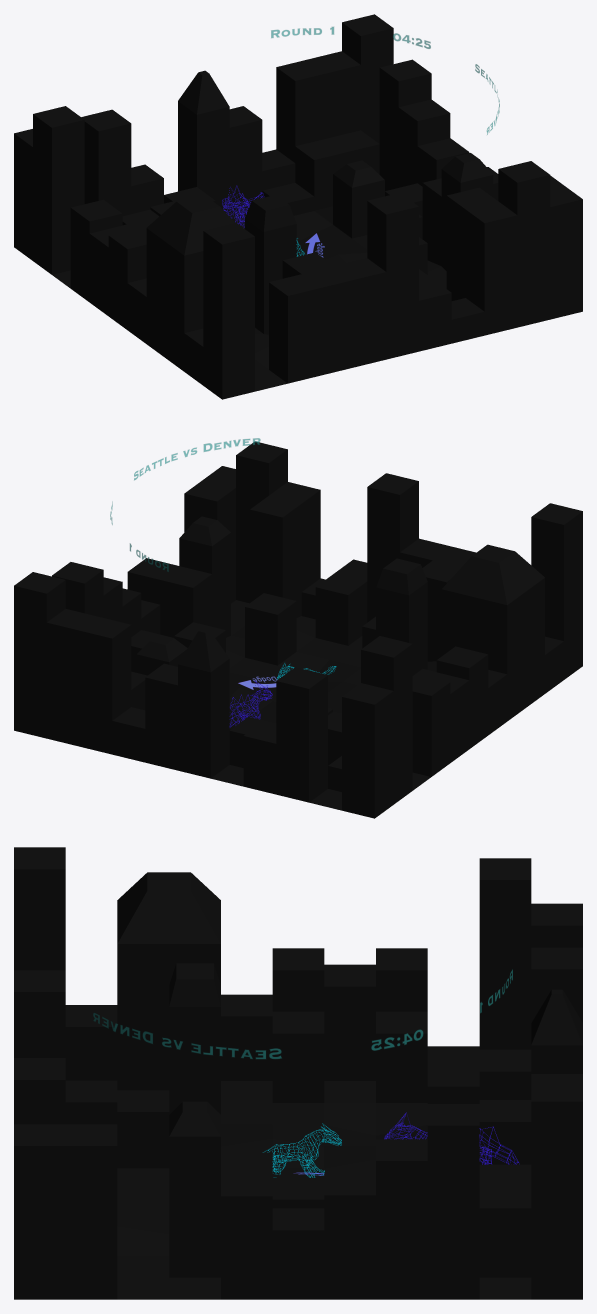
The model's file is cityhologram.gltf.
3 renders of one model, top to bottom at view 1: azimuth 30°, elevation 25°; view 2: azimuth 150°, elevation 25°; view 3: azimuth 270°, elevation 25°, orthographic. The views are drawn at different scales.
Visible parts, largest first — view 1: Plane, Untitled-3, body.001; view 2: Plane, Untitled-3, body.001; view 3: Plane, Untitled-3, body.002, body.001.
Part boxes in pixels (<box>): Plane: <box>14,14,582,399</box>; Untitled-3: <box>271,26,499,134</box>; body.001: <box>222,185,264,227</box>; Plane: <box>14,441,582,818</box>; Untitled-3: <box>110,438,260,571</box>; body.001: <box>229,681,272,727</box>; Plane: <box>14,847,582,1299</box>; Untitled-3: <box>93,969,512,1059</box>; body.002: <box>263,1123,341,1177</box>; body.001: <box>384,1112,519,1164</box>.
Size of the model in its own units: 84 by 43.29 by 84.
Materials: 5 (2 with a texture image).
